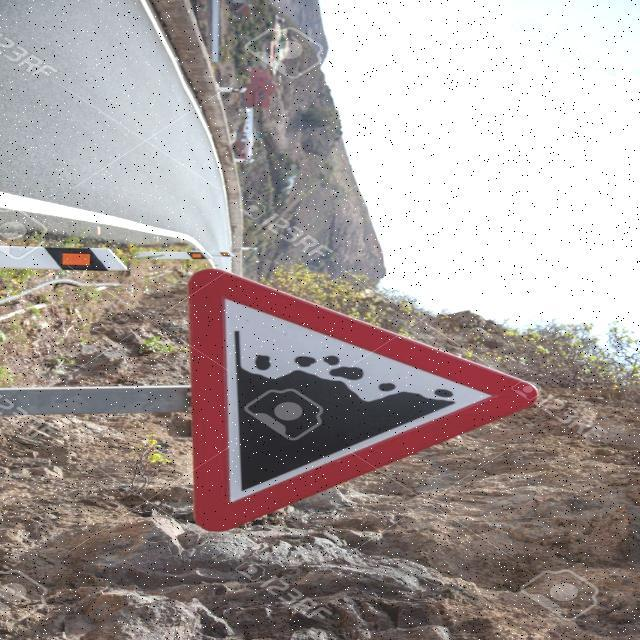Traffic sign: (184, 262, 542, 532)
